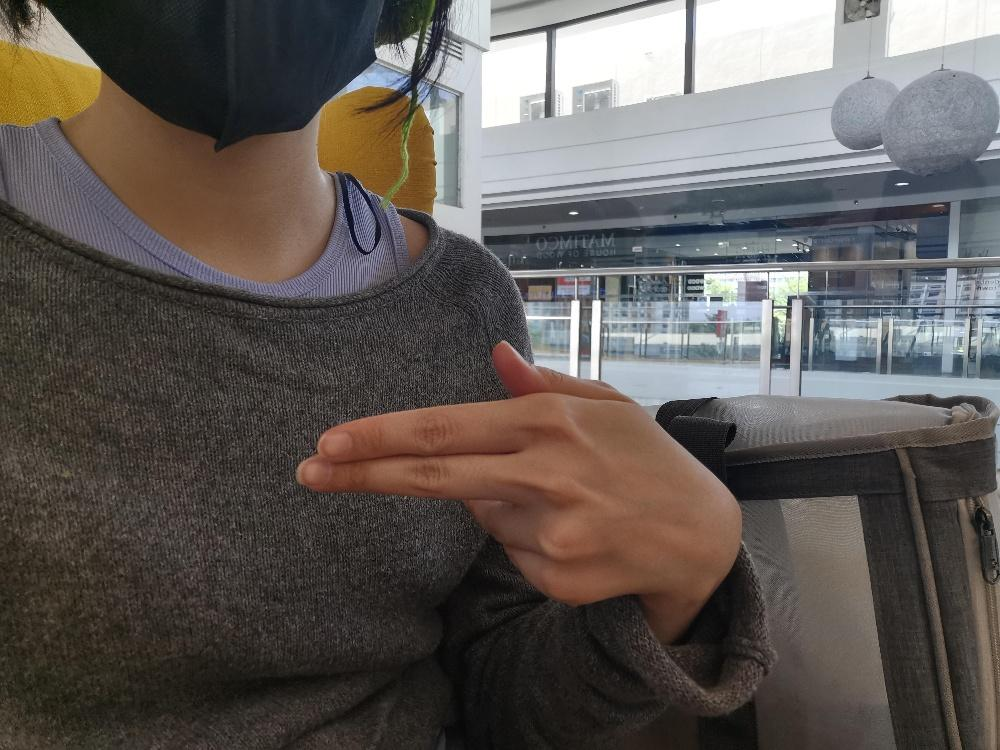h: (293, 338, 744, 607)
